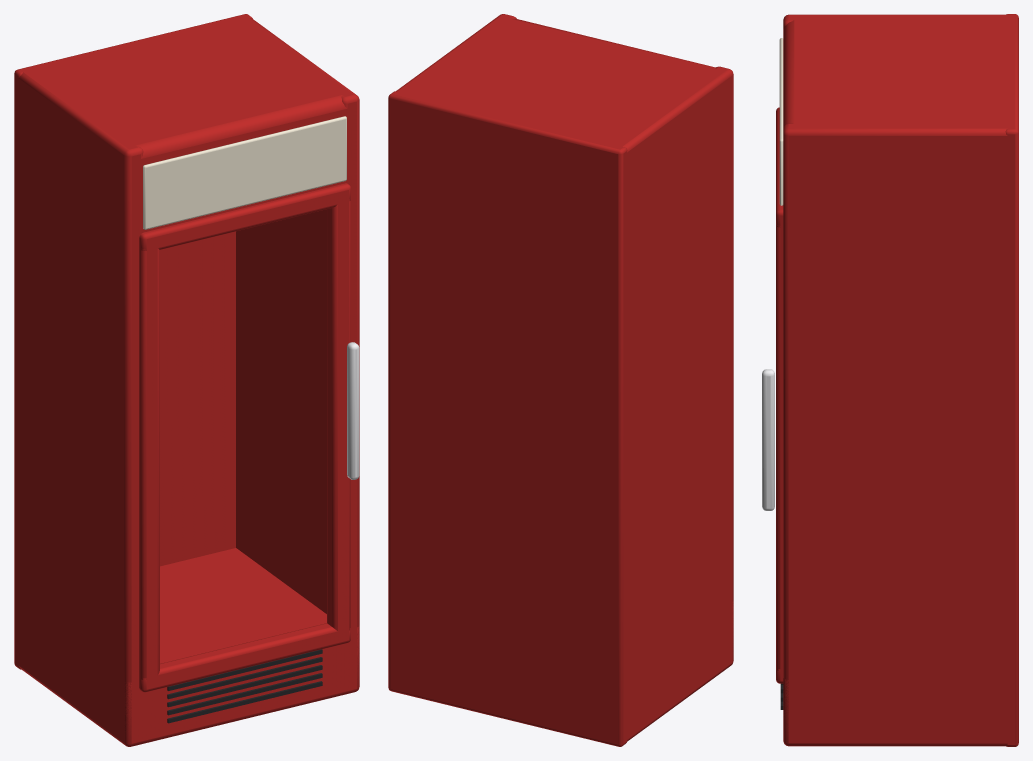
File: beer_fridge.glb
3 renders of one model, left to right at view 1: azimuth 30°, elevation 25°; view 2: azimuth 150°, elevation 25°; view 3: azimuth 270°, elevation 25°, orthographic. The views are drawn at different scales.
Parts seen in each view (by area): view 1: fridge_red, fridge_sign, black_plastic, chrome; view 2: fridge_red; view 3: fridge_red, chrome, fridge_sign.
Boxes of the visible parts, <box> form: fridge_red: <box>14,14,359,746</box>; fridge_sign: <box>143,116,346,229</box>; black_plastic: <box>167,649,322,723</box>; chrome: <box>347,342,359,479</box>; fridge_red: <box>388,14,733,746</box>; fridge_red: <box>776,14,1018,746</box>; chrome: <box>762,369,774,510</box>; fridge_sign: <box>779,38,783,205</box>.
Size of the model in its own units: 0.76 by 1.85 by 0.6975.
